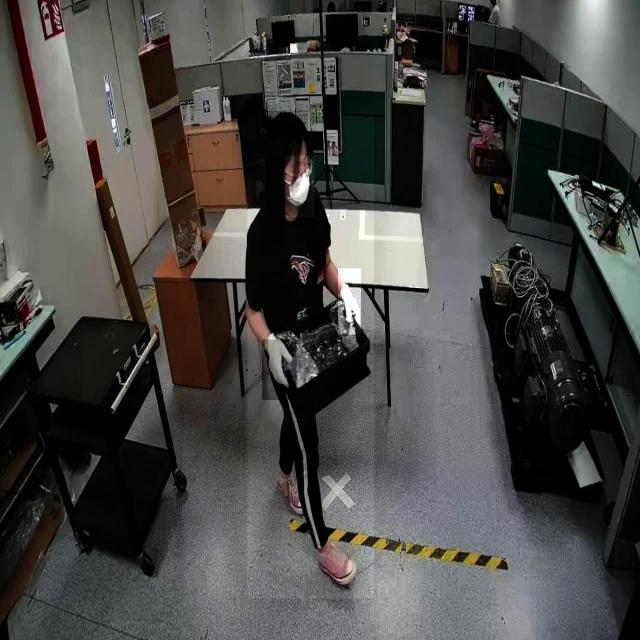face_mask: (286, 155, 314, 217)
hand_glove: (262, 339, 297, 401), (338, 268, 361, 334)
head_nohelmet: (263, 110, 309, 142)
person: (248, 113, 374, 599)
shoes: (317, 534, 359, 588), (274, 460, 306, 514)
